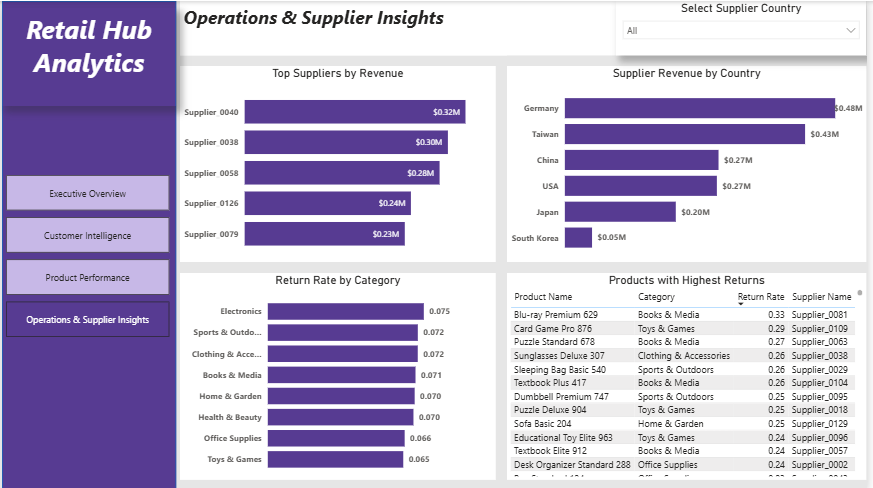

This screenshot's page, from the dashboard's own definition file:
{"tool":"powerbi","page":{"name":"Operations & Supplier Insights","canvas":[1280,720],"ordinal":3},"visuals":[{"type":"clusteredBarChart","title":"Top Suppliers by Revenue","fields":{"Category":["suppliers.supplier_name"],"Y":["_Measures.Total Revenue (Non-Cancelled)"]},"box":[272,96,464,288],"z":0},{"type":"clusteredBarChart","title":"Supplier Revenue by Country","fields":{"Category":["suppliers.country"],"Y":["_Measures.Total Revenue (Non-Cancelled)"]},"box":[752,96,528,288],"z":1000},{"type":"clusteredBarChart","title":"Return Rate by Category","fields":{"Category":["categories.category_name"],"Y":["_Measures.Return Rate %"]},"box":[272,400,464,304],"z":2000},{"type":"tableEx","title":"Products with Highest Returns","fields":{"Values":["products.product_name","categories.category_name","_Measures.Return Rate %","suppliers.supplier_name"]},"box":[752,400,528,304],"z":3000},{"type":"shape","box":[272,0,1008,80],"z":3001},{"type":"textbox","box":[272,0,480,80],"z":3006},{"type":"shape","box":[10,0,256,720],"z":3007},{"type":"textbox","box":[10,10,256,144],"z":3008},{"type":"pageNavigator","box":[16,256,240,240],"z":3009},{"type":"slicer","title":"Select Supplier Country","fields":{"Values":["suppliers.country"]},"box":[912,0,368,80],"z":3013}]}

Visuals, with their boxes in screenshot pixels (x1, y1, x2, y2), scaled from the page's 1280x720 canvas onto the 873x488 screenshot:
"Top Suppliers by Revenue" clusteredBarChart: (x1=186, y1=65, x2=502, y2=260)
"Supplier Revenue by Country" clusteredBarChart: (x1=513, y1=65, x2=872, y2=260)
"Return Rate by Category" clusteredBarChart: (x1=186, y1=271, x2=502, y2=477)
"Products with Highest Returns" tableEx: (x1=513, y1=271, x2=872, y2=477)
shape: (x1=186, y1=0, x2=872, y2=54)
textbox: (x1=186, y1=0, x2=513, y2=54)
shape: (x1=7, y1=0, x2=181, y2=487)
textbox: (x1=7, y1=7, x2=181, y2=104)
pageNavigator: (x1=11, y1=174, x2=175, y2=336)
"Select Supplier Country" slicer: (x1=622, y1=0, x2=872, y2=54)
